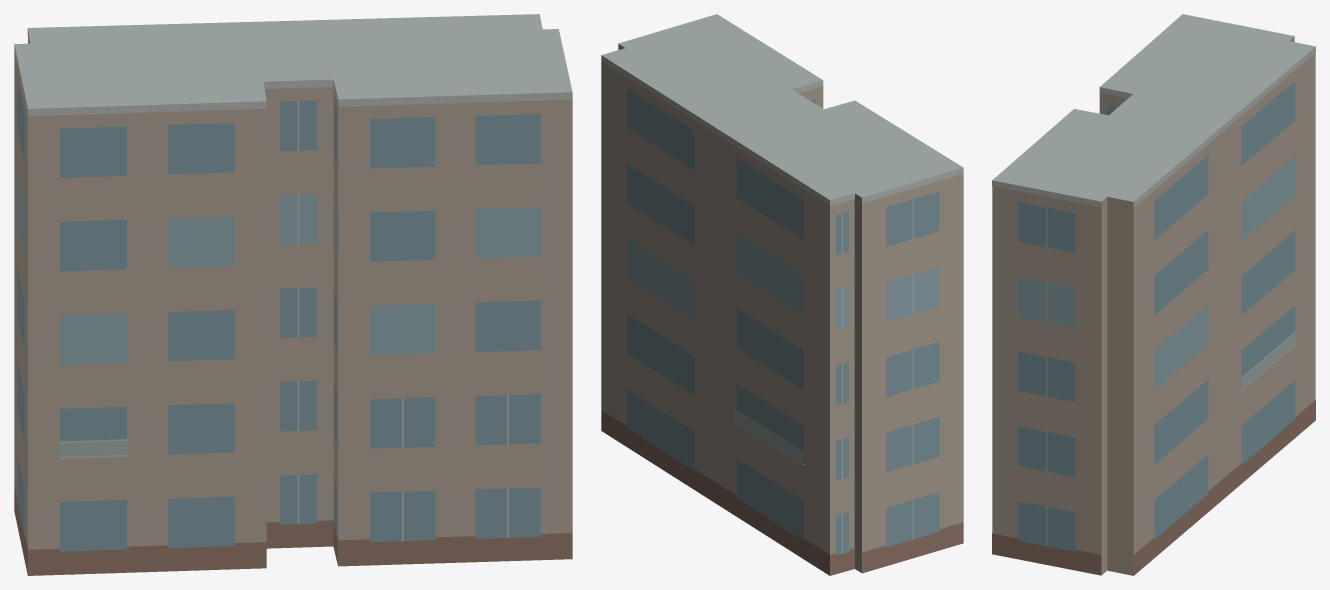
File: survey-upis-32753298.glb
The picture shows the model from 3 angles, left to right: view 1: azimuth 30°, elevation 25°; view 2: azimuth 150°, elevation 25°; view 3: azimuth 270°, elevation 25°; orthographic projection. The views are drawn at different scales.
Parts seen in each view (by area): view 1: survey-upis-32753298.tmp; view 2: survey-upis-32753298.tmp; view 3: survey-upis-32753298.tmp.
Boxes of the visible parts, x1,y1,x2,y2 form: survey-upis-32753298.tmp: [14, 14, 572, 575]; survey-upis-32753298.tmp: [601, 14, 963, 575]; survey-upis-32753298.tmp: [992, 14, 1315, 575].
Bounding box in the file's own units: 16.71 × 15.49 × 12.16.
